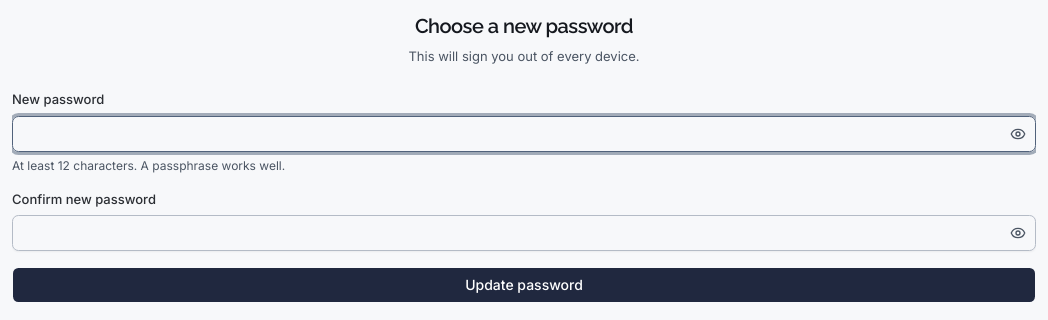
Test: ResetPasswordForm › submits the token with the new password
The width and height of the screenshot is (1048, 320).
In the password field labelled "New password": coordinates (524, 134) [12,116,1036,152], type "a brand new passphrase"
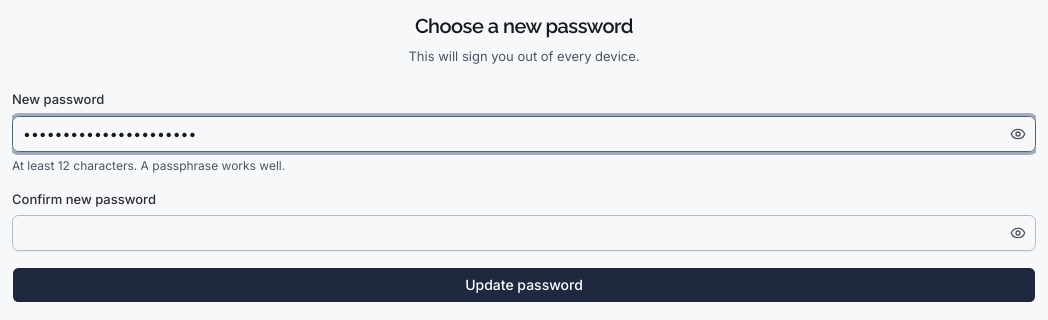
In the password field labelled "Confirm new password": coordinates (524, 233) [12,215,1036,251], type "a brand new passphrase"
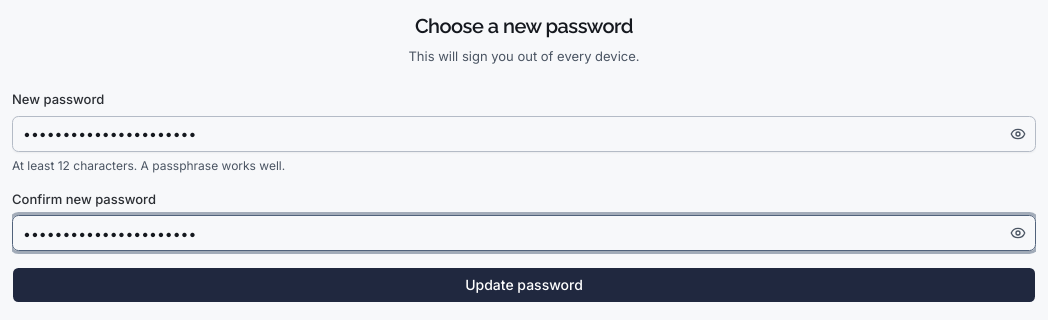
Click the button "Update password": coordinates (524, 285) [12,267,1036,303]
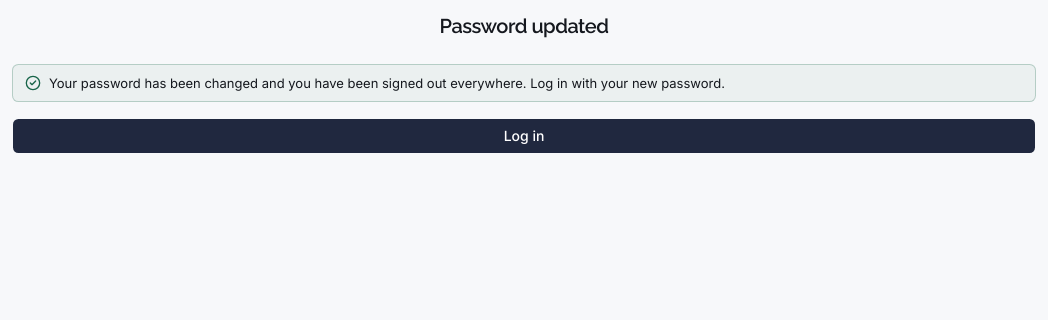
Now the heading "Password updated" is shown, box [440,14,608,38]
